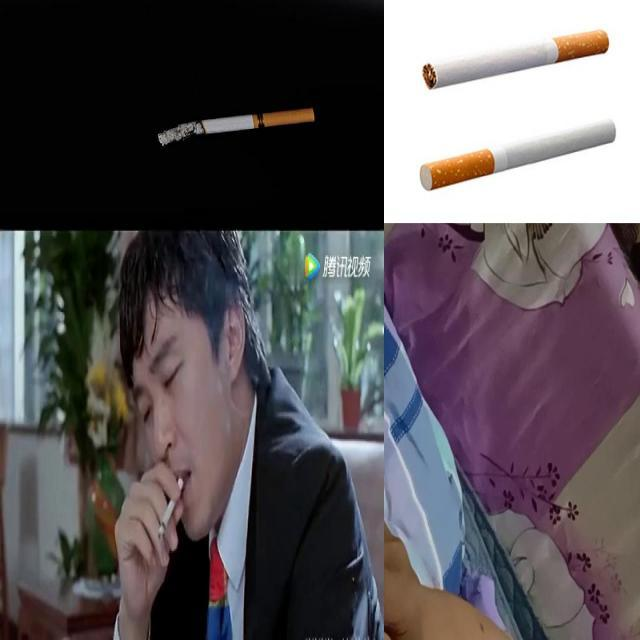smoke: (419, 117, 617, 192), (422, 28, 610, 90), (156, 108, 316, 146), (157, 477, 184, 543)
